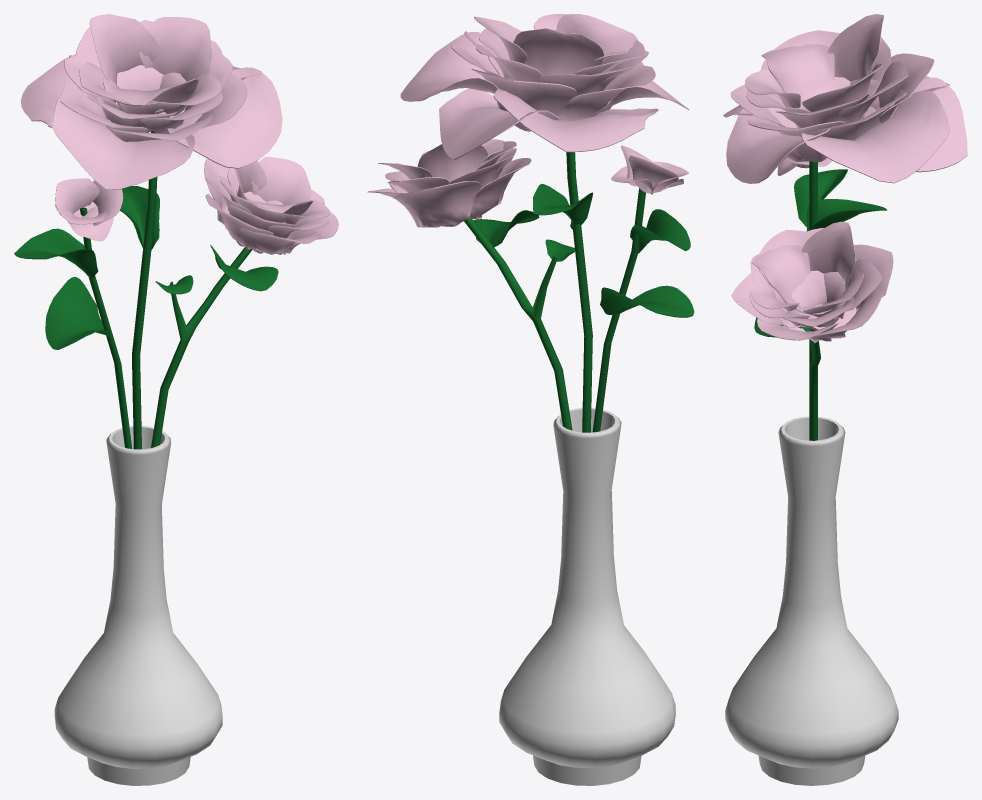
File: lohoa.fbx
The picture shows the model from 3 angles, left to right: view 1: azimuth 30°, elevation 25°; view 2: azimuth 150°, elevation 25°; view 3: azimuth 270°, elevation 25°; orthographic projection. The views are drawn at different scales.
Parts seen in each view (by area): view 1: Hoa, Lo, Hoa1, Hoa2, leaf1, canh, canh2, leaf4, canh1, leaf2, leaf3; view 2: Lo, Hoa, Hoa1, canh2, canh, leaf1, Hoa2, canh1, leaf4, leaf2, leaf3; view 3: Lo, Hoa, Hoa1, leaf2, leaf4, canh2, canh, Hoa2.
Part boxes in pixels (x1,y1,x2,y2): Hoa: [21, 14, 282, 189]; Lo: [54, 426, 222, 785]; Hoa1: [204, 156, 338, 254]; Hoa2: [55, 178, 123, 241]; leaf1: [45, 277, 109, 349]; canh: [132, 131, 157, 449]; canh2: [151, 247, 252, 447]; leaf4: [14, 228, 98, 279]; canh1: [80, 207, 132, 448]; leaf2: [120, 186, 159, 251]; leaf3: [210, 245, 278, 291]; Lo: [499, 408, 675, 785]; Hoa: [400, 14, 688, 159]; Hoa1: [367, 139, 531, 227]; canh2: [464, 218, 572, 430]; canh: [566, 152, 592, 432]; leaf1: [600, 285, 694, 317]; Hoa2: [611, 145, 688, 194]; canh1: [592, 188, 645, 432]; leaf4: [630, 209, 690, 253]; leaf2: [533, 183, 592, 229]; leaf3: [473, 210, 539, 247]; Lo: [725, 416, 898, 785]; Hoa: [723, 14, 967, 183]; Hoa1: [731, 221, 893, 342]; leaf2: [806, 199, 887, 231]; leaf4: [794, 169, 847, 226]; canh2: [809, 328, 820, 440]; canh: [809, 161, 817, 389]; Hoa2: [777, 150, 832, 175].
Size of the model in its own units: 5.88 by 13.57 by 4.04.
